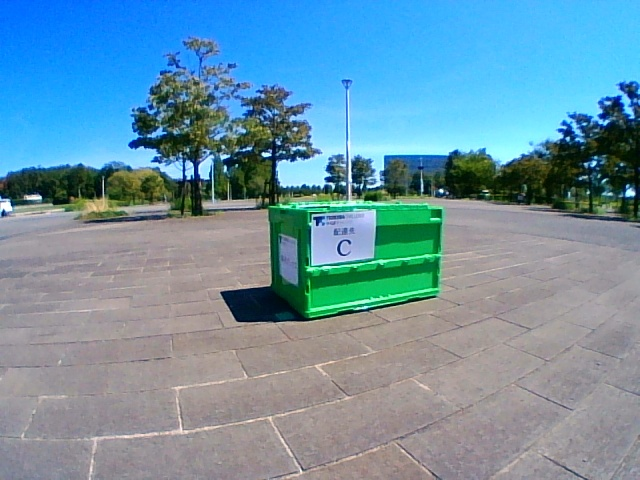green_box: (268, 201, 442, 318)
tag_c: (314, 215, 374, 259)
